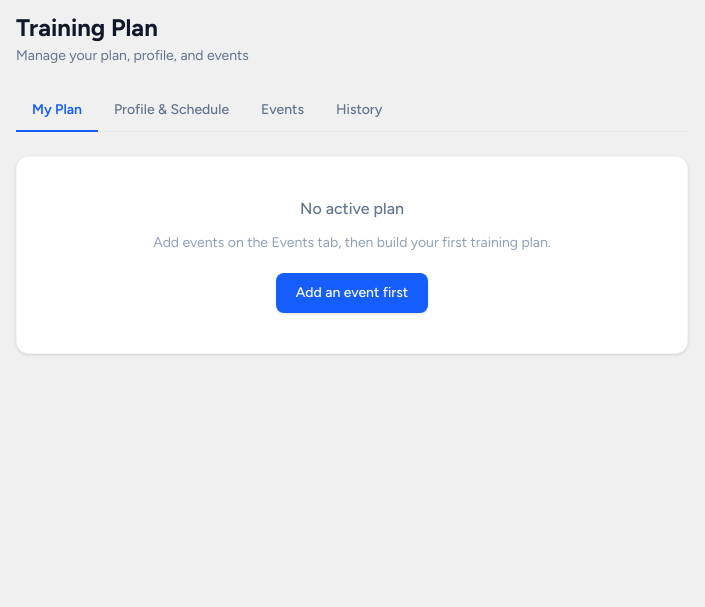
it: PlanPage — events sync › shows added count when new events are found
Click the button "Events": (283, 111) [245,90,320,132]
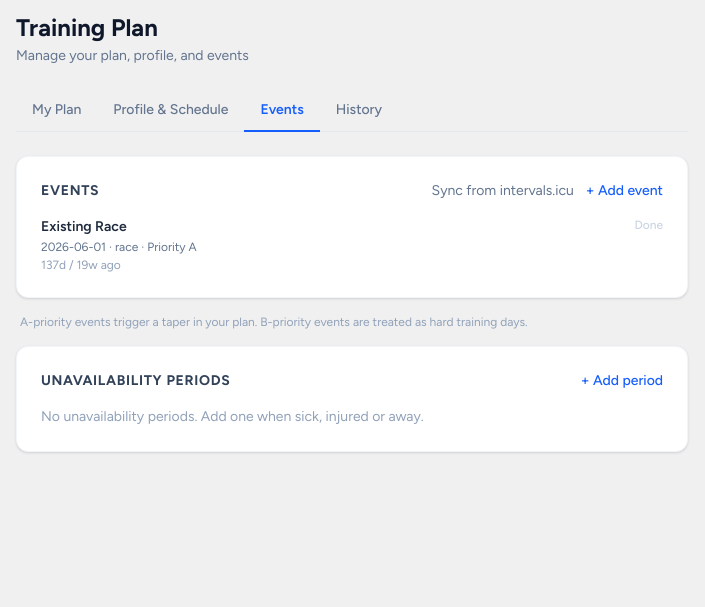
Click the button "Sync from intervals.icu": (503, 191) [432,181,574,201]
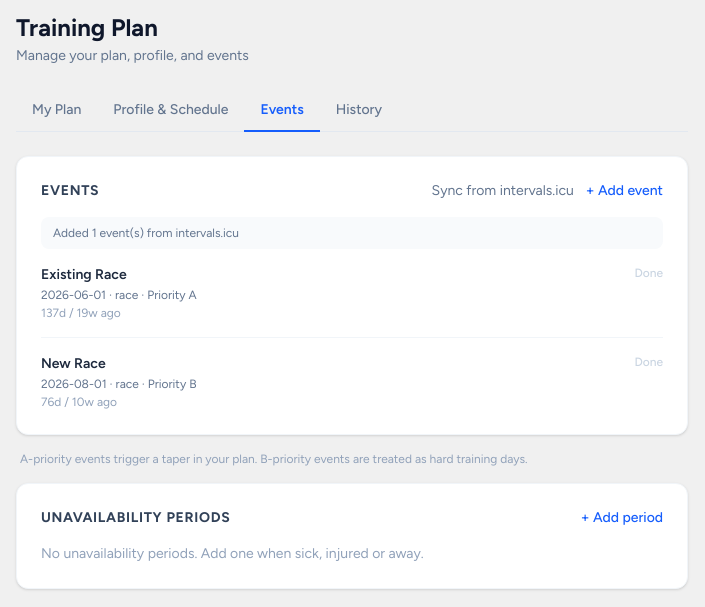
Now the text "Added 1 event(s) from intervals.icu" is shown, box [41,217,663,249]
